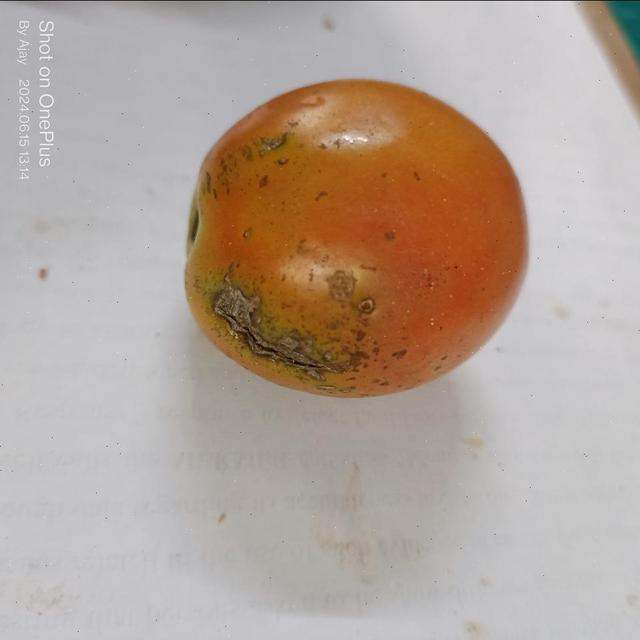Bacterial Spot Fruit: (28, 29, 207, 220)
